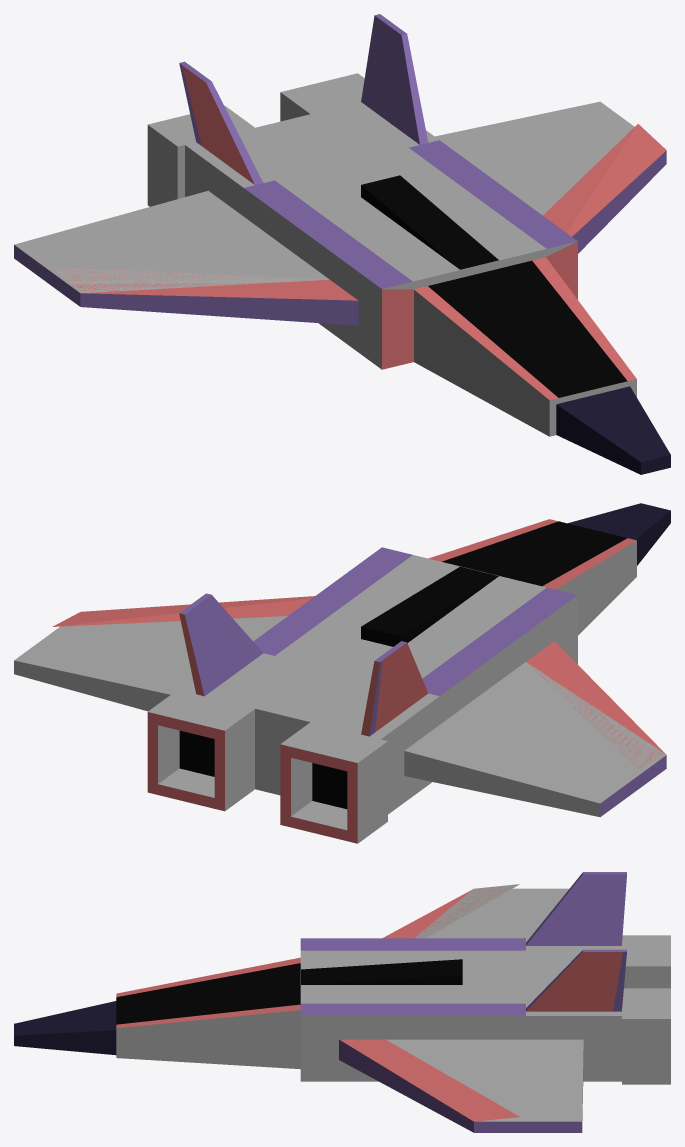
File: B_Spaceship_7_Starscream.fbx
The picture shows the model from 3 angles, top to bottom: view 1: azimuth 30°, elevation 25°; view 2: azimuth 150°, elevation 25°; view 3: azimuth 270°, elevation 25°; orthographic projection. The views are drawn at different scales.
Parts seen in each view (by area): view 1: pCube1; view 2: pCube1; view 3: pCube1.
Boxes of the visible parts, bbox=[...] form: pCube1: bbox=[14, 14, 670, 474]; pCube1: bbox=[14, 503, 670, 843]; pCube1: bbox=[14, 872, 670, 1132].
Bounding box in the file's own units: 0.0531 × 0.0633 × 0.0139.
